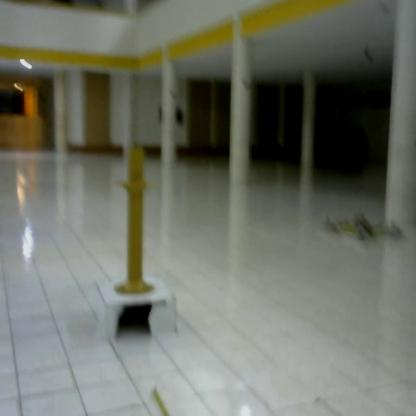pole: (108, 141, 164, 300)
